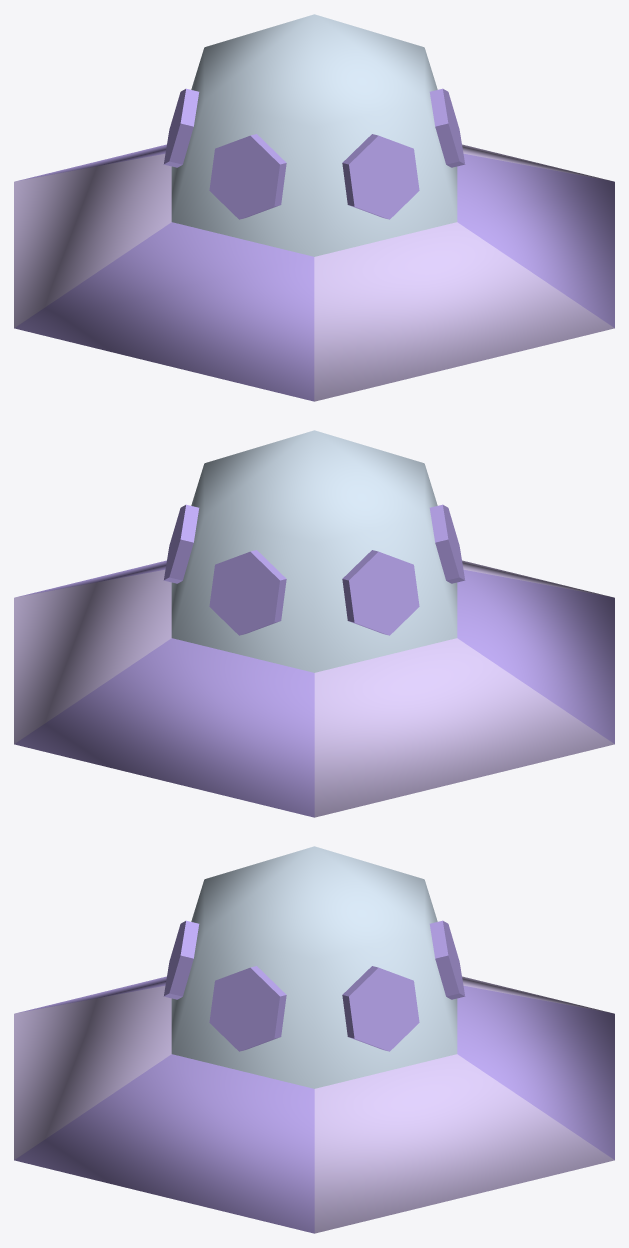
Rendered from ufo.fbx.
The picture shows the model from 3 angles, top to bottom: view 1: azimuth 30°, elevation 25°; view 2: azimuth 150°, elevation 25°; view 3: azimuth 270°, elevation 25°; orthographic projection.
Parts seen in each view (by area): view 1: ufo; view 2: ufo; view 3: ufo.
Boxes of the visible parts, box(x1,y1,x2,y2) form: ufo: box(14, 14, 614, 401); ufo: box(14, 430, 614, 817); ufo: box(14, 846, 614, 1233).
Bounding box in the file's own units: 90.81 × 44.79 × 78.64.
